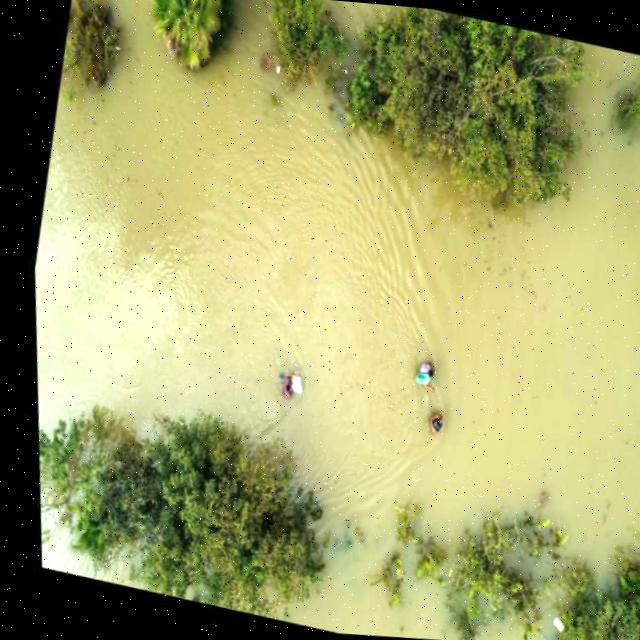civilian: (275, 366, 315, 412), (411, 354, 440, 382), (427, 408, 450, 438)
